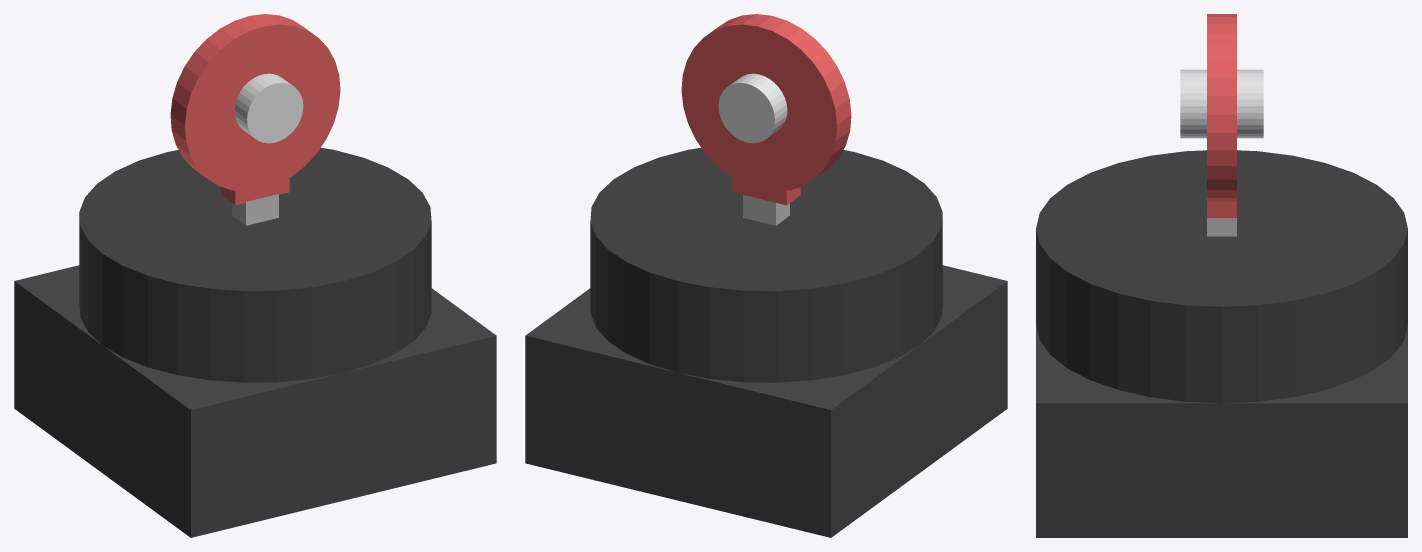
File: schluessel.glb
The picture shows the model from 3 angles, left to right: view 1: azimuth 30°, elevation 25°; view 2: azimuth 150°, elevation 25°; view 3: azimuth 270°, elevation 25°; orthographic projection. The views are drawn at different scales.
Visible parts, largest first — view 1: Cube, Cylinder, Cylinder.001, Cylinder.002, Cube.002, Cube.001; view 2: Cube, Cylinder, Cylinder.001, Cylinder.002, Cube.002, Cube.001; view 3: Cylinder, Cube, Cylinder.001, Cylinder.002, Cube.002, Cube.001.
Part boxes in pixels (x1,y1,x2,y2): Cube: [14, 265, 496, 537]; Cylinder: [79, 148, 431, 382]; Cylinder.001: [170, 14, 340, 191]; Cylinder.002: [234, 73, 303, 143]; Cube.002: [232, 194, 278, 225]; Cube.001: [221, 178, 289, 205]; Cube: [525, 265, 1007, 537]; Cylinder: [590, 148, 942, 382]; Cylinder.001: [681, 14, 851, 191]; Cylinder.002: [718, 73, 787, 143]; Cube.002: [743, 195, 789, 225]; Cube.001: [732, 178, 800, 205]; Cylinder: [1036, 150, 1407, 403]; Cube: [1036, 325, 1407, 537]; Cylinder.001: [1207, 14, 1236, 202]; Cylinder.002: [1180, 69, 1263, 138]; Cube.002: [1207, 218, 1236, 236]; Cube.001: [1207, 203, 1236, 217].
Bounding box in the file's own units: 1.57 × 2.04 × 1.57.
